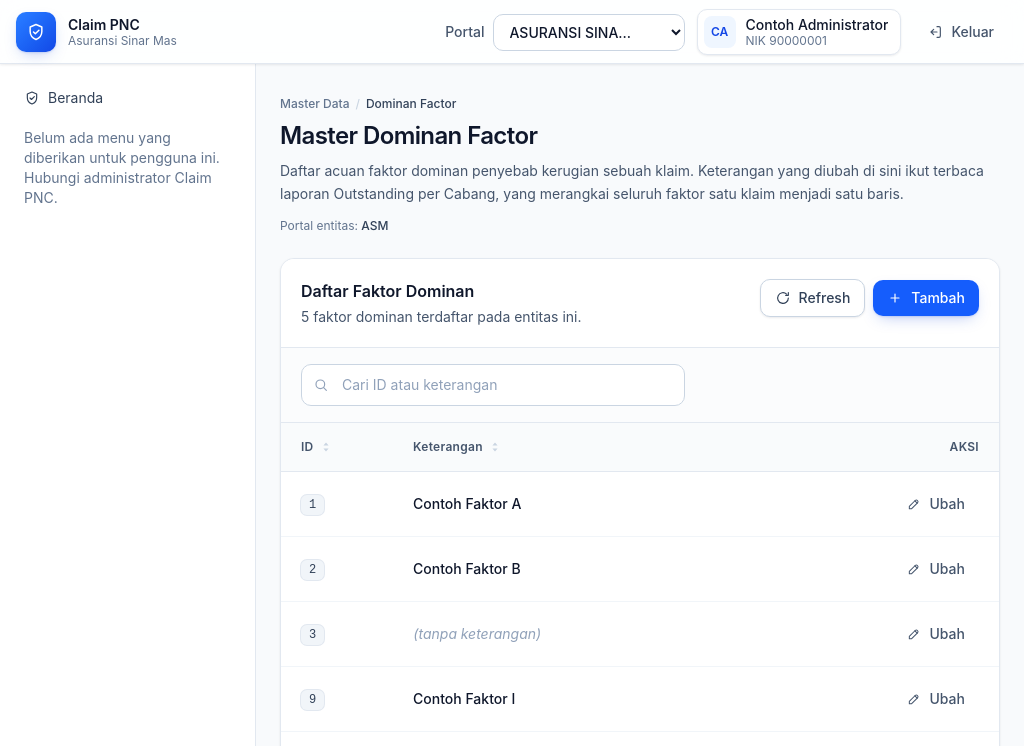
Test: tambah › memperingatkan bahwa keterangan ganda tidak ditolak sistem
Expected: the text "Contoh Faktor A" is shown, 413,494 -> 521,512
Click the button "Tambah" at (926, 298), box 873,280 -> 979,316
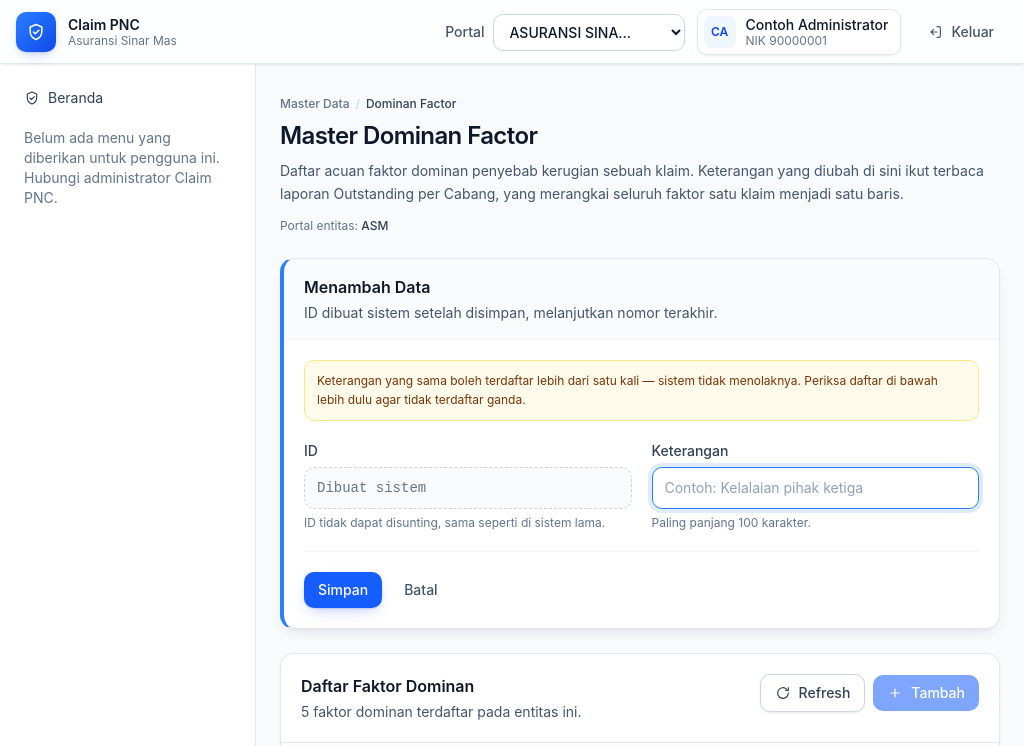
Expected: the text "boleh terdaftar lebih dari satu kali" is shown, 317,372 -> 938,407
